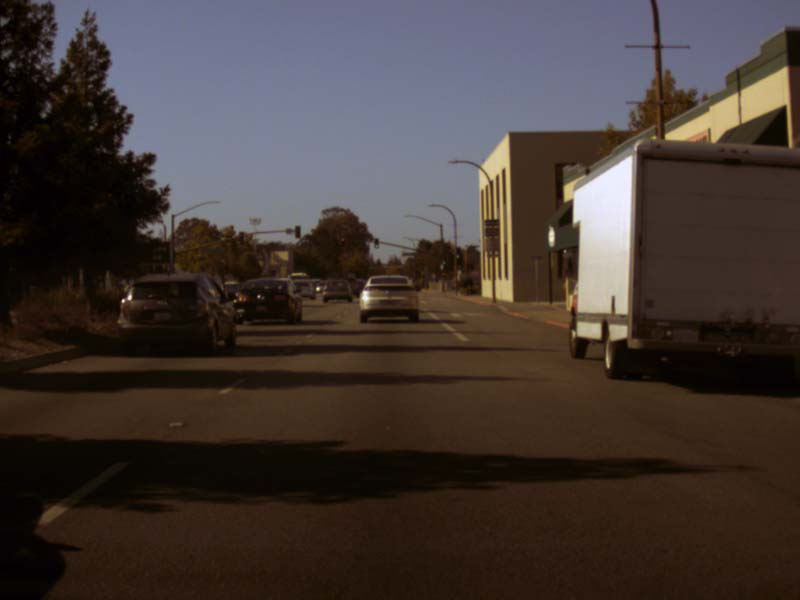Green: (455, 248, 460, 260), (442, 255, 446, 265), (374, 238, 378, 248)
Red: (340, 236, 344, 244)
